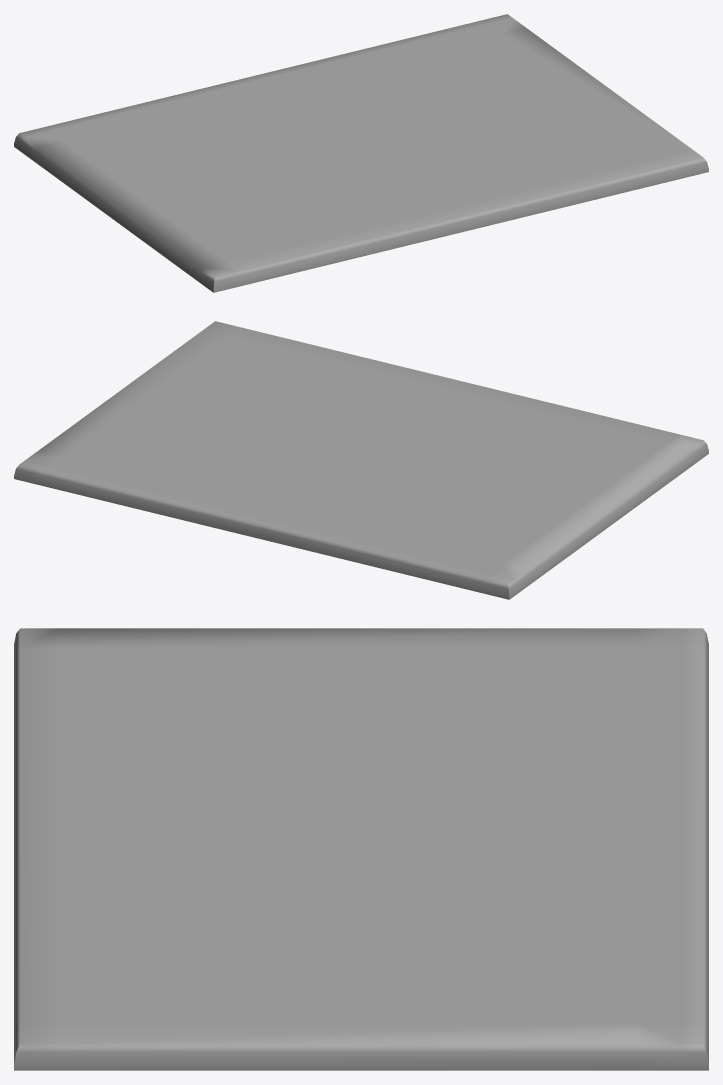
Rendered from LidMeshLaptopLid_6_0_GeomSubset_0.obj.
The picture shows the model from 3 angles, top to bottom: view 1: azimuth 30°, elevation 25°; view 2: azimuth 150°, elevation 25°; view 3: azimuth 270°, elevation 25°; orthographic projection. The views are drawn at different scales.
Parts seen in each view (by area): view 1: LidMeshLaptopLid_6_0_GeomSubset_0; view 2: LidMeshLaptopLid_6_0_GeomSubset_0; view 3: LidMeshLaptopLid_6_0_GeomSubset_0.
Part boxes in pixels (x1,y1,x2,y2): LidMeshLaptopLid_6_0_GeomSubset_0: [14, 14, 708, 292]; LidMeshLaptopLid_6_0_GeomSubset_0: [14, 321, 708, 599]; LidMeshLaptopLid_6_0_GeomSubset_0: [14, 628, 708, 1070].
Bounding box in the file's own units: 0.393 × 0.0106 × 0.2743.
1 material, 1 textured.
